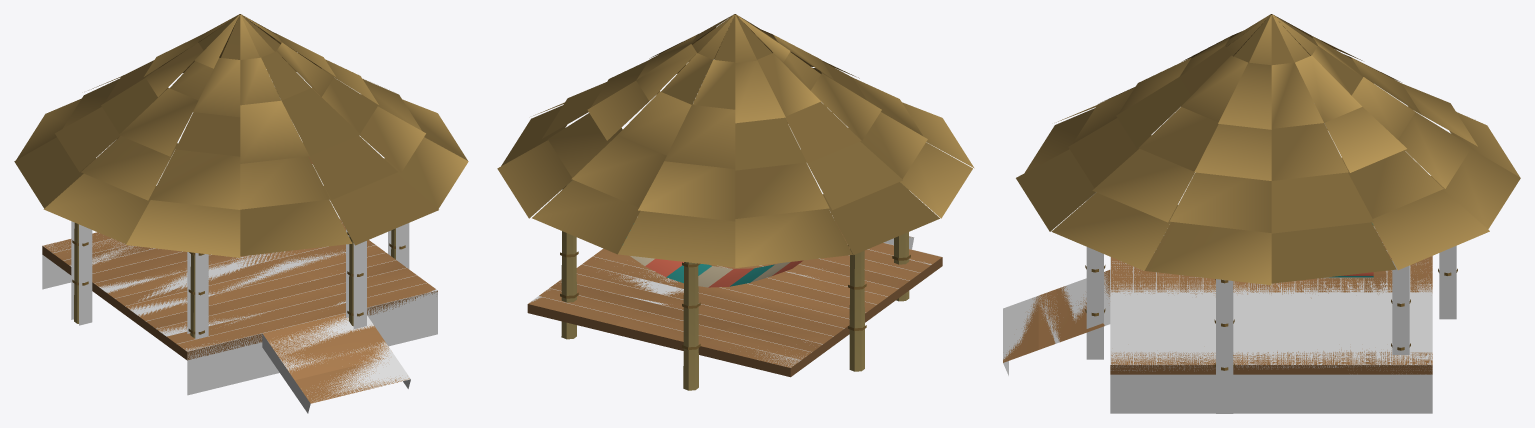
The model's file is tiki_hut.glb.
3 views of the same model, side by side, from view 1: azimuth 30°, elevation 25°; view 2: azimuth 150°, elevation 25°; view 3: azimuth 270°, elevation 25° (orthographic). The views are drawn at different scales.
Visible parts, largest first — view 1: tiki_hut, COL_6, COL_7, COL_3, COL_2, COL_1, COL_0; view 2: tiki_hut, COL_6; view 3: tiki_hut, COL_6, COL_7, COL_0, COL_1, COL_5, COL_4.
Part boxes in pixels (x1,y1,x2,y2): tiki_hut: (14, 14, 468, 403); COL_6: (42, 222, 437, 395); COL_7: (262, 315, 410, 413); COL_3: (71, 221, 92, 325); COL_2: (187, 252, 208, 339); COL_1: (346, 229, 366, 328); COL_0: (388, 223, 409, 268); tiki_hut: (497, 14, 974, 390); COL_6: (528, 242, 941, 367); tiki_hut: (1003, 14, 1520, 374); COL_6: (1110, 232, 1432, 413); COL_7: (1003, 271, 1110, 375); COL_0: (1216, 279, 1233, 413); COL_1: (1086, 194, 1103, 359); COL_5: (1392, 261, 1409, 354); COL_4: (1439, 245, 1456, 319).
Size of the model in its own units: 9.43 by 6.88 by 9.64.
